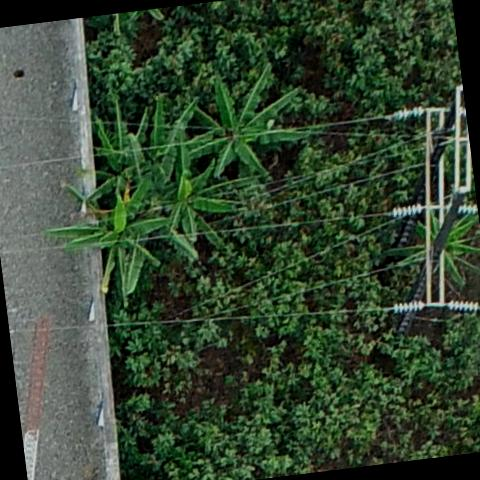Banana-plant: (176, 55, 324, 196), (42, 183, 172, 299), (68, 92, 160, 226), (150, 150, 253, 250), (389, 198, 480, 295)
